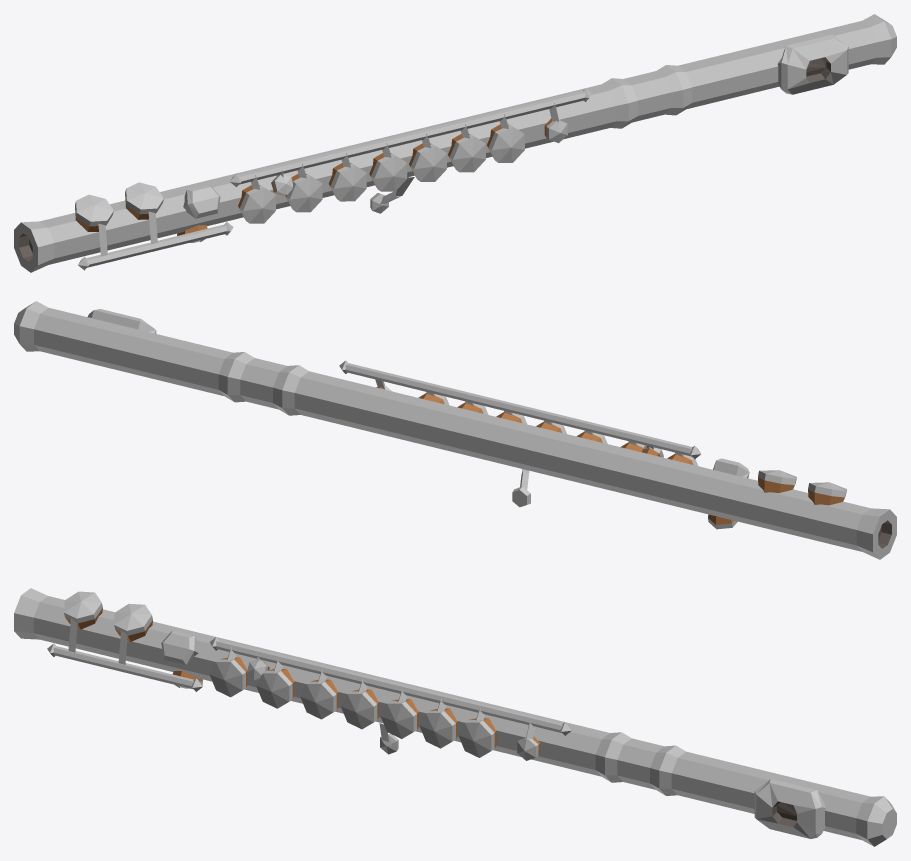
File: flute-dad6f2.glb
3 views of the same model, one above another, from view 1: azimuth 30°, elevation 25°; view 2: azimuth 150°, elevation 25°; view 3: azimuth 330°, elevation 25° (orthographic).
Visible parts, largest first — view 1: flute-body-metal, flute-body-matte; view 2: flute-body-metal, flute-body-matte; view 3: flute-body-metal, flute-body-matte.
Boxes of the visible parts, x1,y1,x2,y2 form: flute-body-metal: [14, 14, 896, 272]; flute-body-matte: [19, 57, 830, 261]; flute-body-metal: [14, 301, 896, 559]; flute-body-matte: [378, 387, 891, 548]; flute-body-metal: [14, 588, 896, 846]; flute-body-matte: [65, 608, 796, 827].
Bounding box in the file's own units: 0.67 × 0.0677 × 0.0419.
